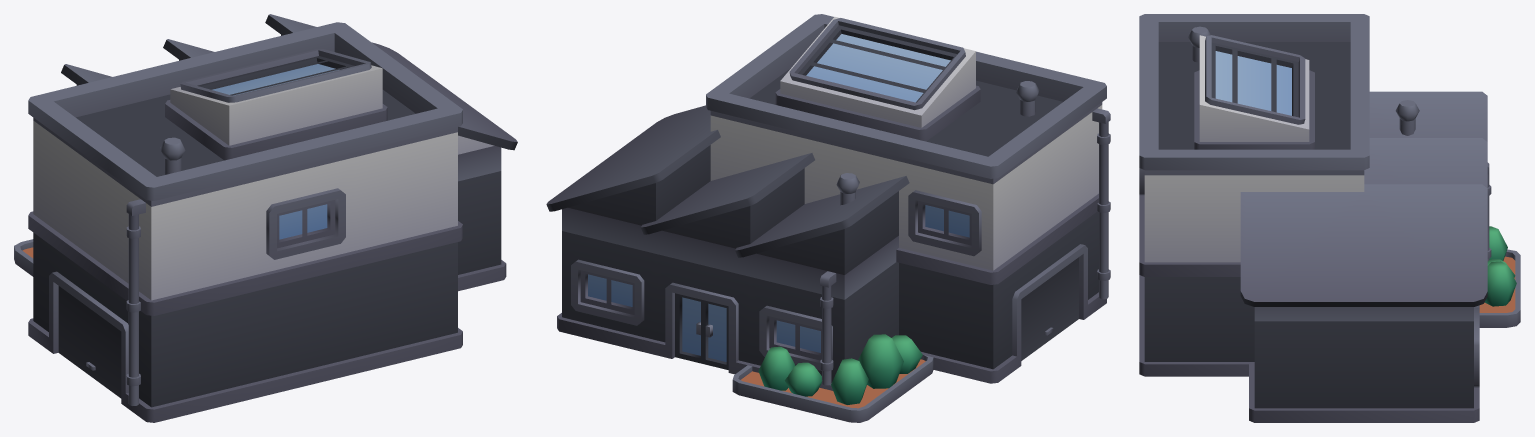
File: industrial-building-t.glb
3 renders of one model, left to right at view 1: azimuth 30°, elevation 25°; view 2: azimuth 150°, elevation 25°; view 3: azimuth 270°, elevation 25°, orthographic. The views are drawn at different scales.
Visible parts, largest first — view 1: building-t; view 2: building-t; view 3: building-t.
Part boxes in pixels (left/top/right/bottom): building-t: left=14, top=14, right=517, bottom=422; building-t: left=546, top=14, right=1110, bottom=422; building-t: left=1139, top=14, right=1520, bottom=422.
Bounding box in the file's own units: 1.72 × 1.01 × 1.39.
